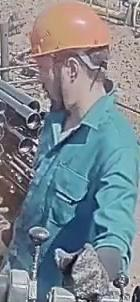gloves: (52, 242, 118, 302)
helmet: (26, 0, 112, 66)
vest: (0, 93, 139, 301)
